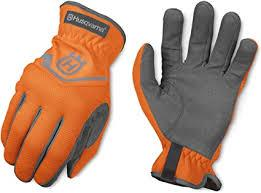gloves: (131, 1, 259, 192), (1, 1, 127, 188)
